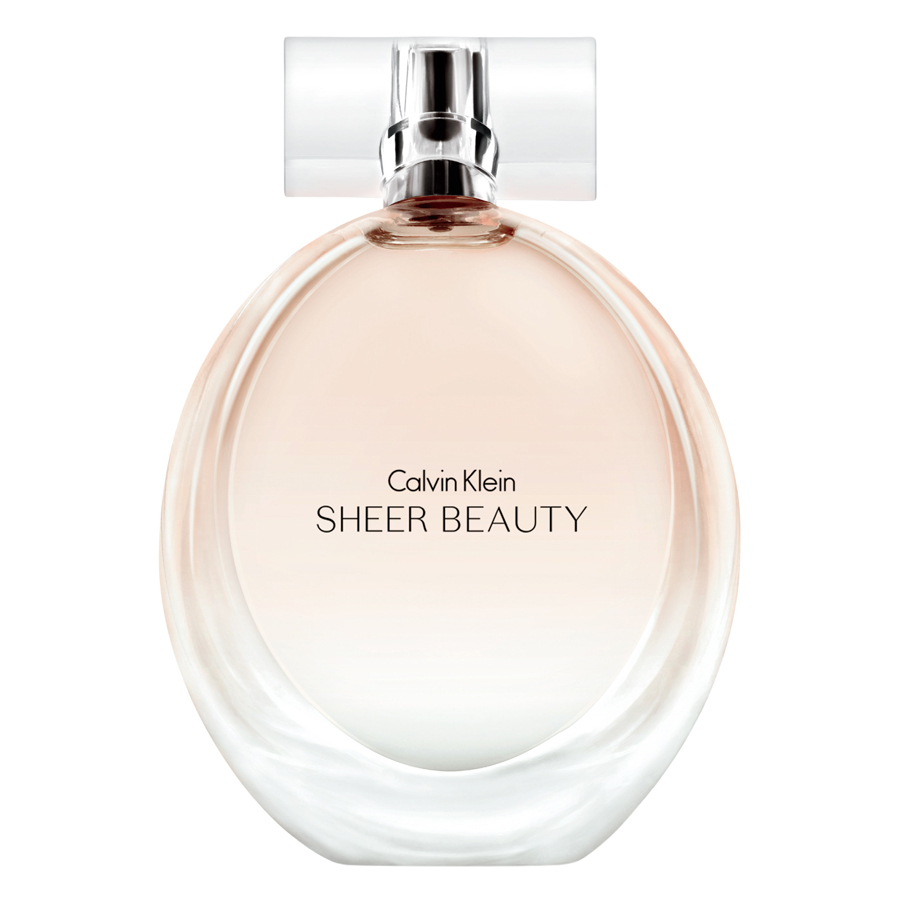Calvin Klein: (385, 461, 523, 497)
